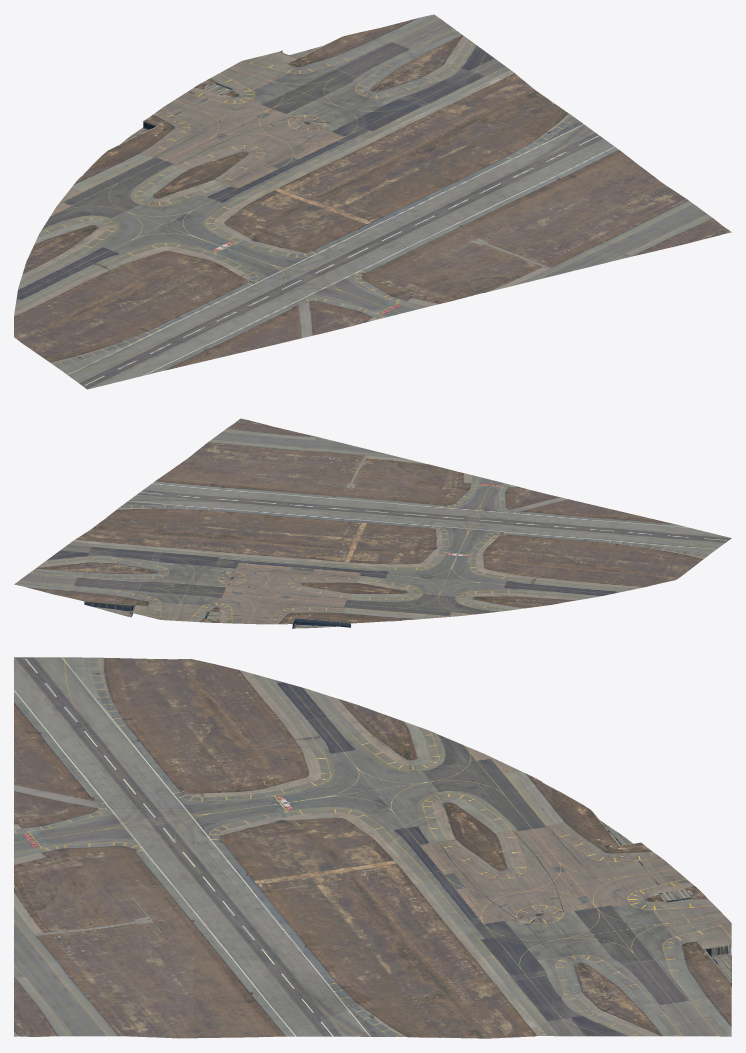
File: roads_context_07.glb
3 views of the same model, one above another, from view 1: azimuth 30°, elevation 25°; view 2: azimuth 150°, elevation 25°; view 3: azimuth 270°, elevation 25° (orthographic). The views are drawn at different scales.
Visible parts, largest first — view 1: I090001800001062A0.001; view 2: I090001800001062A0.001; view 3: I090001800001062A0.001.
Part boxes in pixels (x1,y1,x2,y2): I090001800001062A0.001: (14,14,731,389); I090001800001062A0.001: (14,418,731,628); I090001800001062A0.001: (14,657,731,1038).
Bounding box in the file's own units: 751 × 7.92 × 601.
22 materials, 22 textured.
